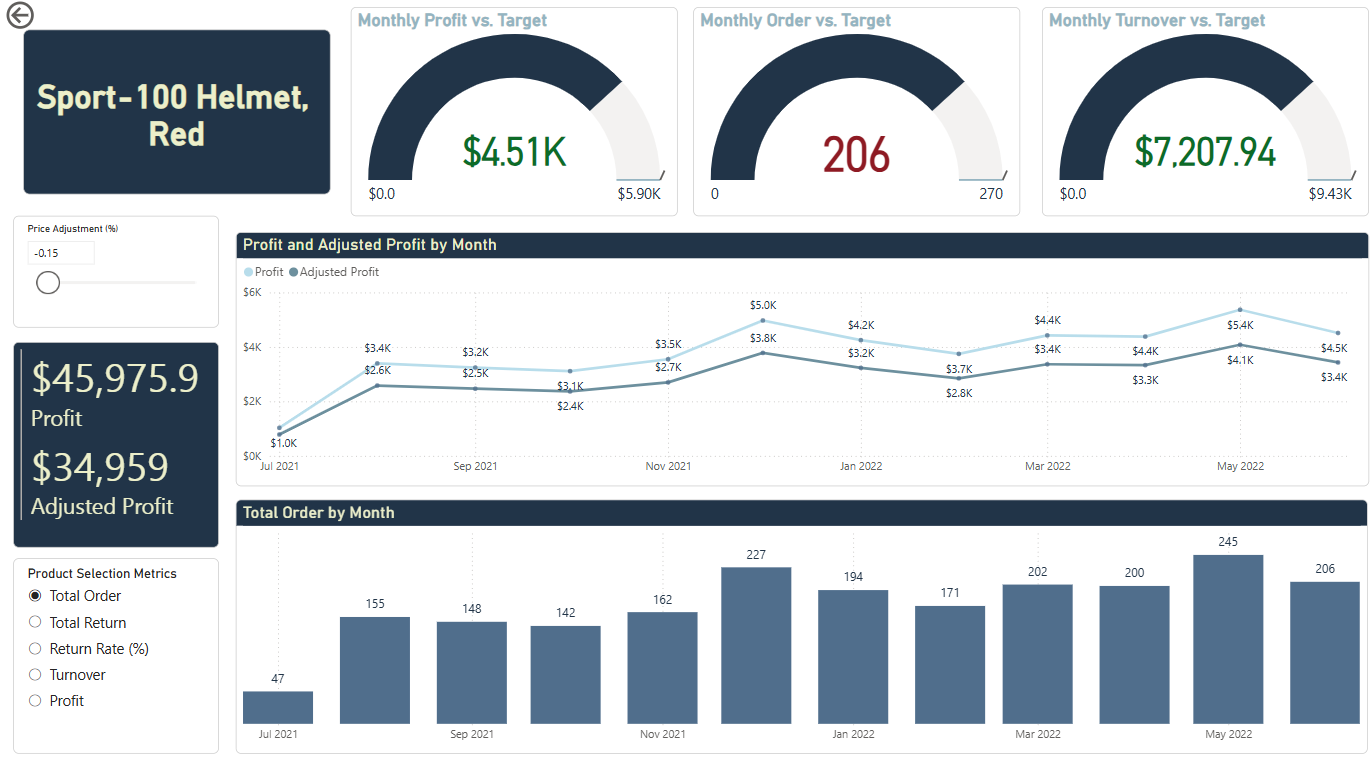

This screenshot's page, from the dashboard's own definition file:
{"tool":"powerbi","page":{"name":"Product Analysis","canvas":[1522,850],"ordinal":3},"visuals":[{"type":"card","fields":{"Values":["Min(Product Lookup.Product Name)"]},"box":[23.1,35.4,338.5,181.5],"z":0},{"type":"gauge","title":"Monthly Order vs. Target ","fields":{"Y":["_Measure.Total Order"],"TargetValue":["_Measure.Order Target"],"MaxValue":["_Measure.Order Target"]},"box":[761.7,11.7,360,230],"z":1000},{"type":"gauge","title":"Monthly Turnover vs. Target ","fields":{"Y":["_Measure.Turnover"],"TargetValue":["_Measure.Turnover Target"],"MaxValue":["_Measure.Turnover Target"]},"box":[1145,11.7,360,230],"z":2000},{"type":"gauge","title":"Monthly Profit vs. Target ","fields":{"Y":["_Measure.Profit"],"MaxValue":["_Measure.Profit Target"],"TargetValue":["_Measure.Profit Target"]},"box":[383.3,11.7,360,230],"z":3000},{"type":"slicer","fields":{"Values":["Price Adjustment (%).Price Adjustment (%)"]},"box":[14.4,228.1,225.2,181.9],"z":4000},{"type":"lineChart","fields":{"Category":["Date Lookup.Start of the Month"],"Y":["_Measure.Profit","_Measure.Adjusted Profit"]},"box":[256.9,258.5,1247.7,280],"z":5000},{"type":"slicer","fields":{"Values":["Product Selection Metrics 2.Product Selection Metrics"]},"box":[13,649.6,225.2,184.8],"z":6000},{"type":"clusteredColumnChart","fields":{"Y":["_Measure.Total Order"],"Category":["Date Lookup.Start of the Month"]},"box":[256.9,553.8,1246.2,280],"z":7000},{"type":"actionButton","box":[0,0,100,40],"z":8000},{"type":"multiRowCard","fields":{"Values":["_Measure.Profit","_Measure.Adjusted Profit"]},"box":[13,424.4,225.2,207.9],"z":9000}]}

Visuals, with their boxes in screenshot pixels (x1, y1, x2, y2), scaled from the page's 1522x850 canvas onto the 1372x757 screenshot:
card - Min(Product Lookup.Product Name): <bbox>21, 32, 326, 193</bbox>
"Monthly Order vs. Target " gauge: <bbox>687, 10, 1011, 215</bbox>
"Monthly Turnover vs. Target " gauge: <bbox>1032, 10, 1357, 215</bbox>
"Monthly Profit vs. Target " gauge: <bbox>346, 10, 670, 215</bbox>
slicer - Price Adjustment (%).Price Adjustment (%): <bbox>13, 203, 216, 365</bbox>
lineChart - Date Lookup.Start of the Month x _Measure.Profit: <bbox>232, 230, 1356, 480</bbox>
slicer - Product Selection Metrics 2.Product Selection Metrics: <bbox>12, 579, 215, 743</bbox>
clusteredColumnChart - _Measure.Total Order x Date Lookup.Start of the Month: <bbox>232, 493, 1355, 743</bbox>
actionButton: <bbox>0, 0, 90, 36</bbox>
multiRowCard - _Measure.Profit x _Measure.Adjusted Profit: <bbox>12, 378, 215, 563</bbox>
